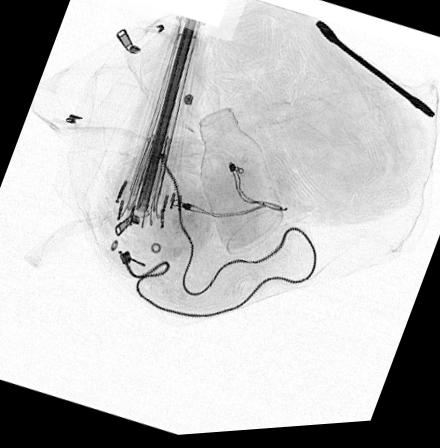Wrench: (311, 22, 437, 125)
